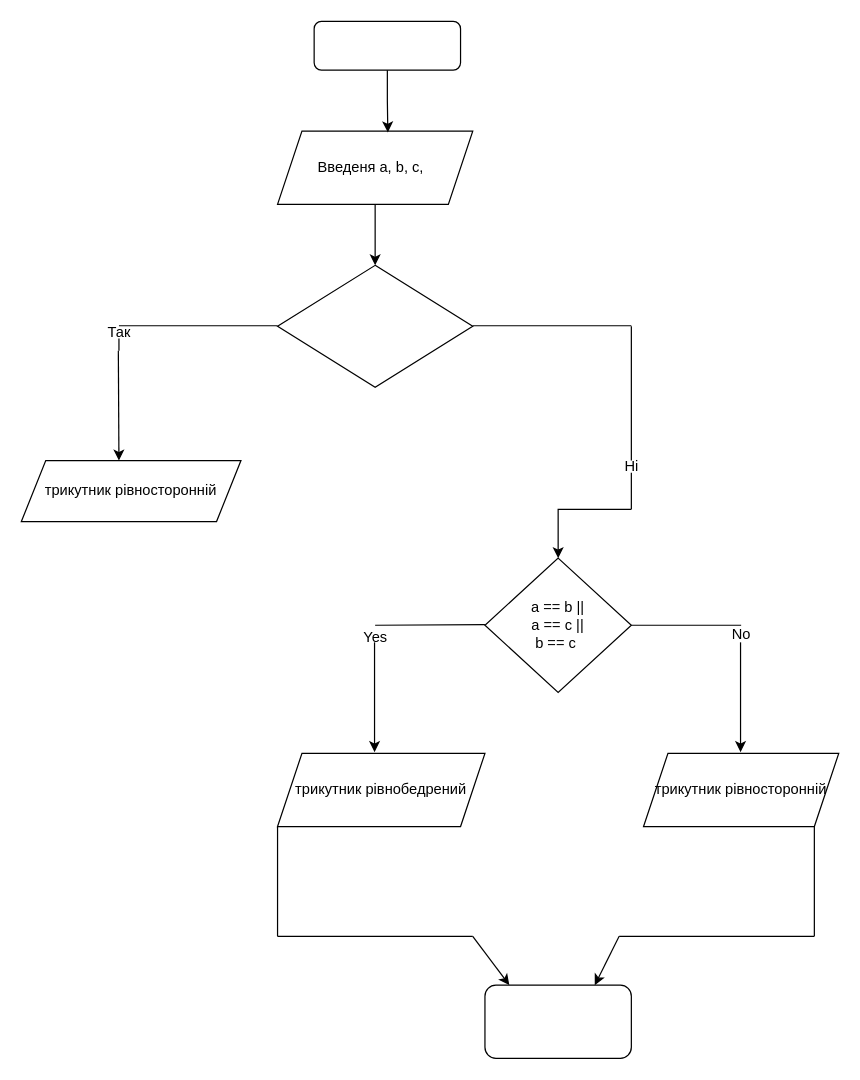
Some shapes in this 860 by 1080 pixel diagram are drawn without their labels. Each missing label, with the centre of its shape:
a==b a==c: [374,325]
Кінець: [557,1021]
Старт: [387,45]
